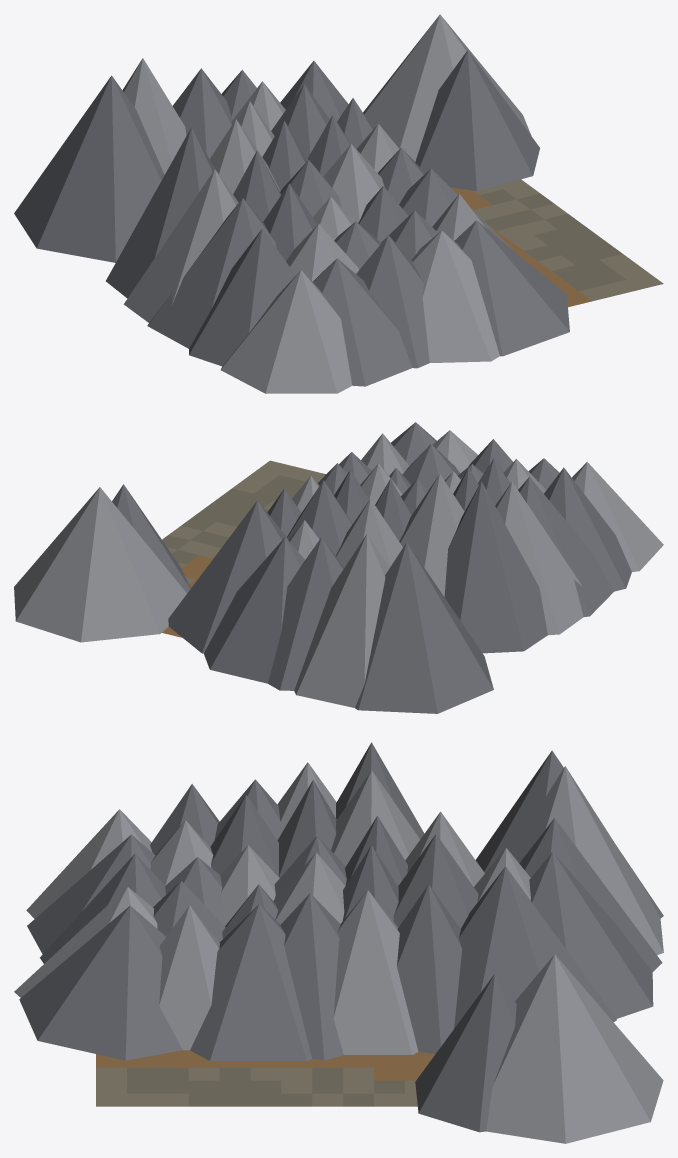
File: chunk_9_19.glb
3 renders of one model, top to bottom at view 1: azimuth 30°, elevation 25°; view 2: azimuth 150°, elevation 25°; view 3: azimuth 270°, elevation 25°, orthographic. The views are drawn at different scales.
Parts seen in each view (by area): view 1: chunk_9_19; view 2: chunk_9_19; view 3: chunk_9_19.
Part boxes in pixels (<box>): chunk_9_19: <box>14,14,663,393</box>; chunk_9_19: <box>14,422,663,713</box>; chunk_9_19: <box>14,742,663,1143</box>.
Bounding box in the file's own units: 21.12 × 6.15 × 21.03.
